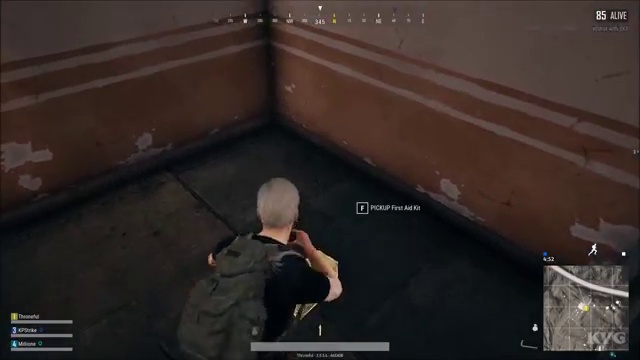Player: (197, 172, 349, 309)
